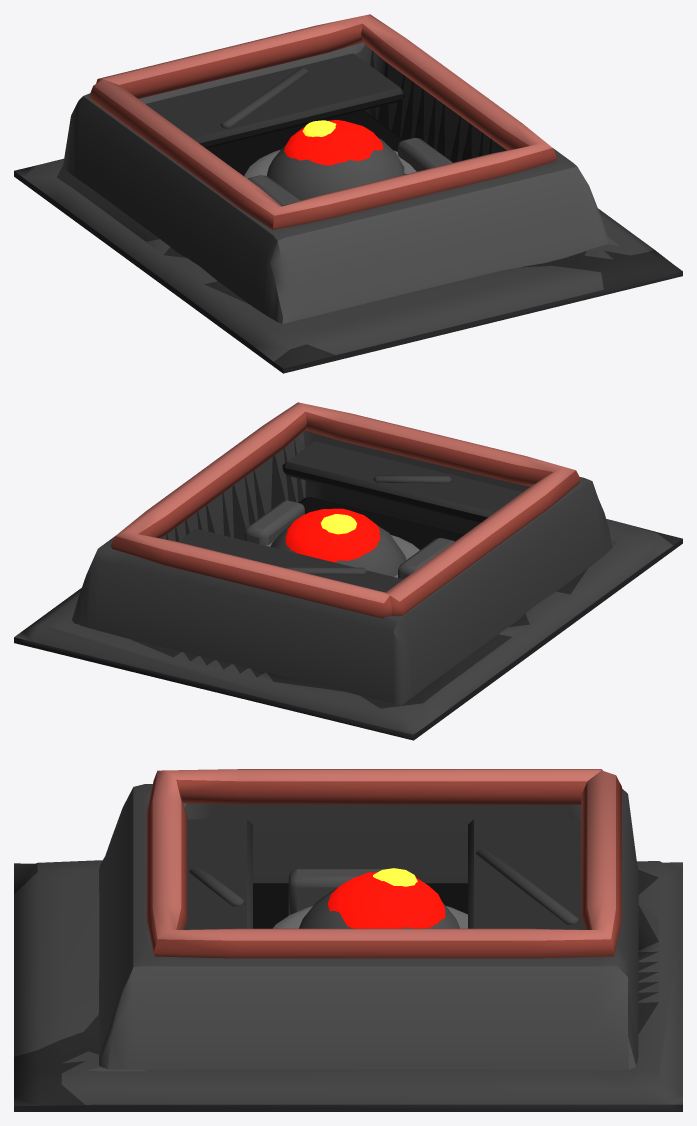
The model's file is hatch_bunker_94.glb.
The picture shows the model from 3 angles, top to bottom: view 1: azimuth 30°, elevation 25°; view 2: azimuth 150°, elevation 25°; view 3: azimuth 270°, elevation 25°; orthographic projection. The views are drawn at different scales.
Parts seen in each view (by area): view 1: housing, ground, frame, lid_n, dome, eye, pit_floor, strut1, lid_n_rib, strut-1, collar; view 2: housing, frame, ground, lid_s, eye, lid_n, pit_floor, dome, strut1, strut-1, lid_s_rib, eye_core (+1 smaller); view 3: housing, ground, frame, lid_n, lid_s, eye, pit_floor, strut-1, lid_n_rib, dome, lid_s_rib, collar (+1 smaller).
Part boxes in pixels (x1,y1,x2,y2): housing: (62, 42, 608, 323); ground: (14, 158, 682, 373); frame: (89, 14, 557, 230); lid_n: (145, 53, 404, 148); dome: (267, 138, 404, 200); eye: (284, 120, 382, 165); pit_floor: (207, 110, 403, 176); strut1: (398, 137, 452, 171); lid_n_rib: (220, 68, 308, 128); strut-1: (248, 175, 300, 205); collar: (244, 149, 416, 178); housing: (72, 430, 615, 705); frame: (110, 402, 580, 618); ground: (14, 519, 682, 740); lid_s: (282, 441, 522, 522); eye: (285, 508, 380, 562); lid_n: (177, 528, 403, 592); pit_floor: (298, 497, 464, 549); dome: (270, 524, 406, 576); strut1: (244, 500, 304, 545); strut-1: (398, 538, 454, 579); lid_s_rib: (373, 475, 452, 483); eye_core: (320, 514, 356, 534); housing: (98, 784, 638, 1070); ground: (14, 860, 682, 1111); frame: (146, 769, 621, 958); lid_n: (468, 819, 585, 929); lid_s: (184, 819, 252, 929); eye: (327, 872, 445, 928); pit_floor: (253, 883, 467, 928); strut-1: (288, 869, 385, 915); lid_n_rib: (476, 848, 579, 924); dome: (299, 887, 459, 928); lid_s_rib: (189, 866, 244, 906); collar: (273, 906, 467, 928).
Bounding box in the file's own units: 24 × 8.16 × 28.
